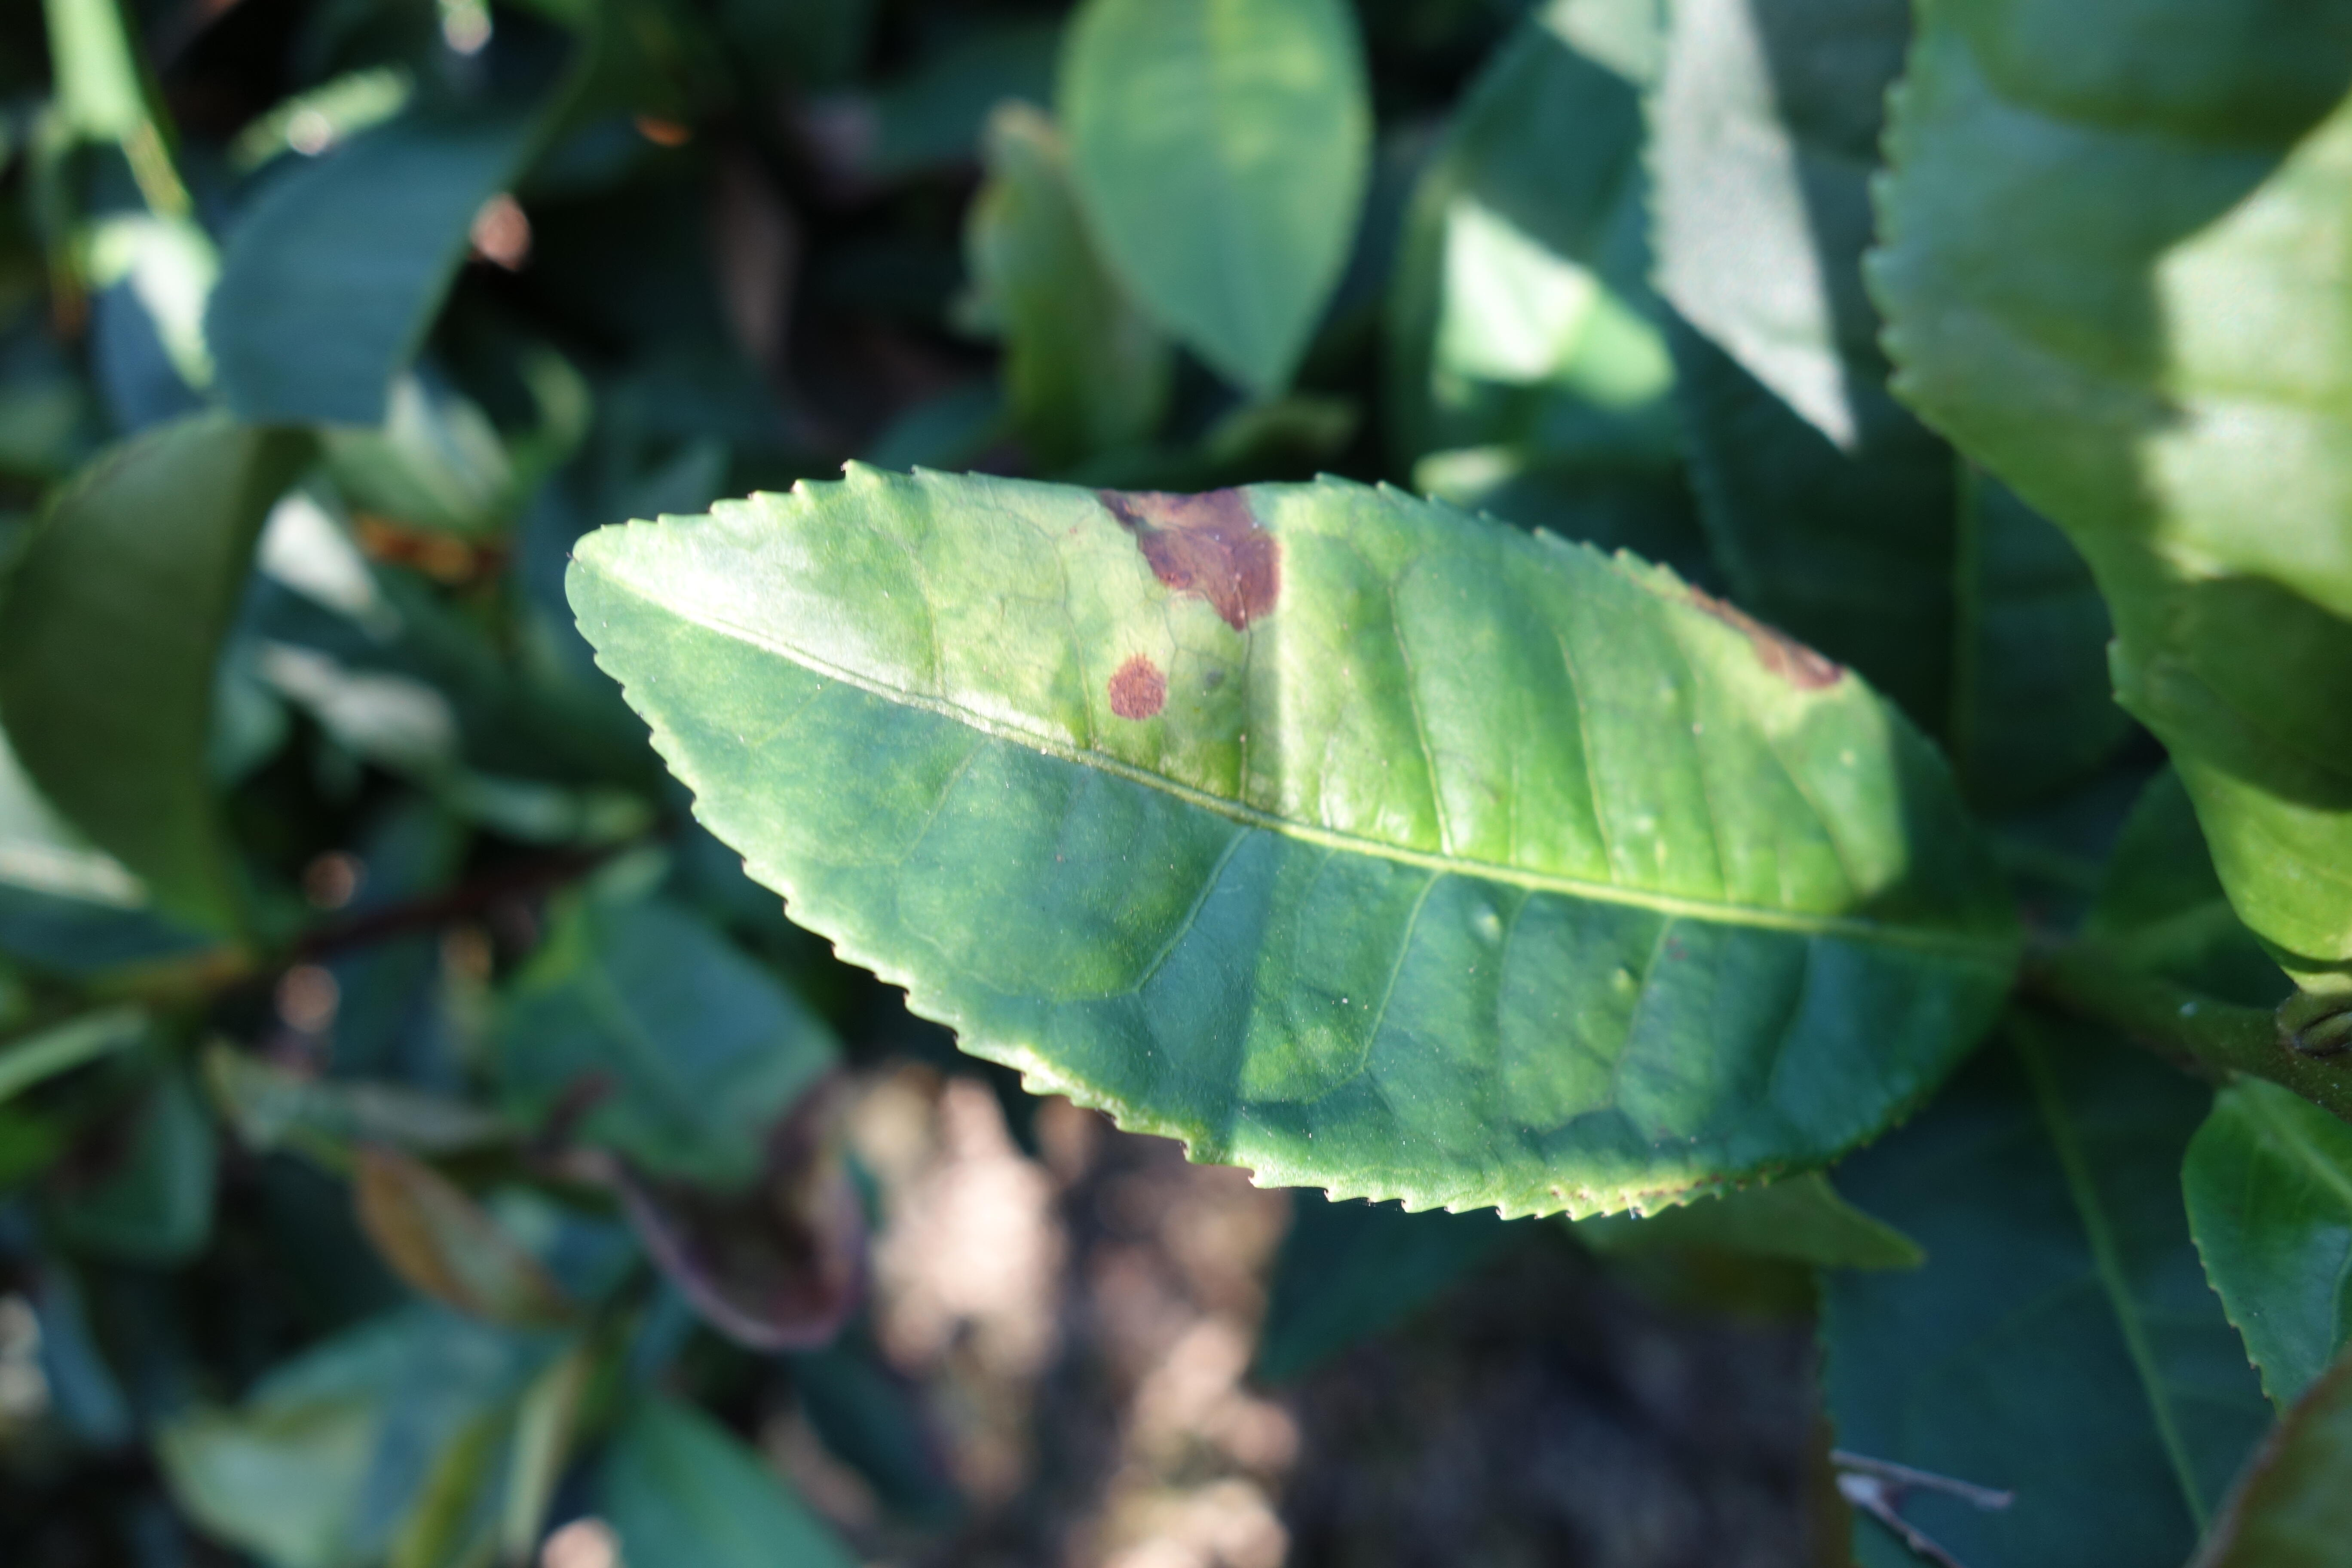tanju_high: (562, 472, 2019, 1223)
